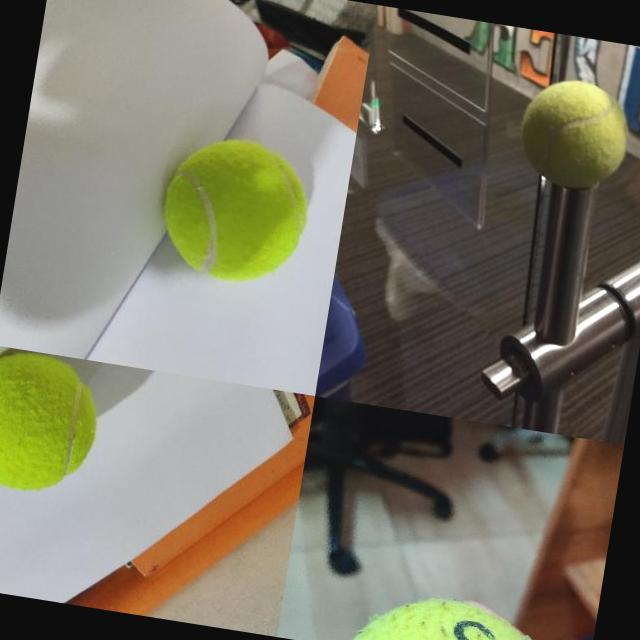Tennis Ball: (152, 129, 318, 295), (0, 345, 107, 501), (512, 72, 638, 196), (331, 580, 573, 640)
